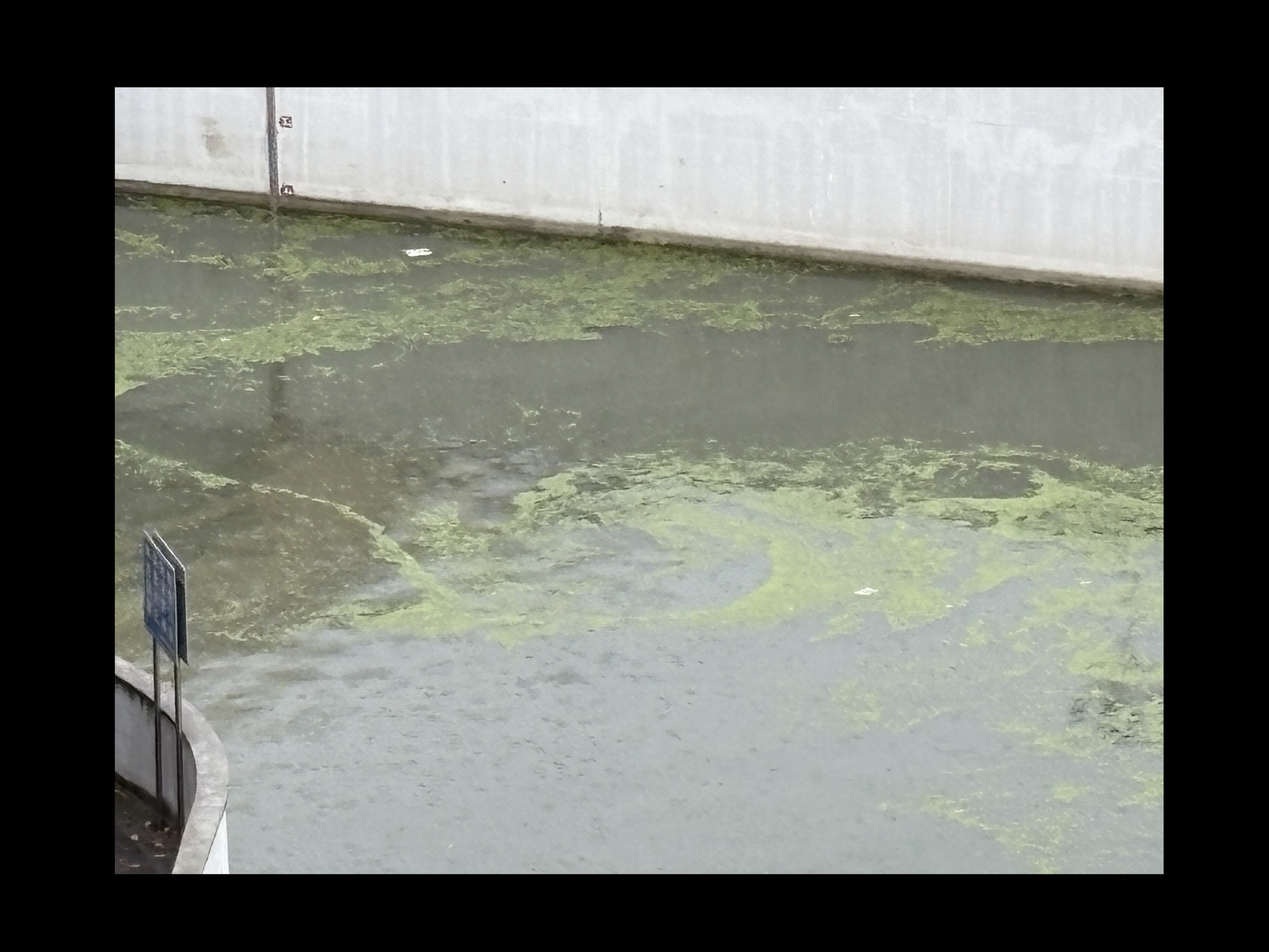Other: (543, 462, 829, 538), (867, 279, 1163, 343), (294, 301, 623, 348), (936, 499, 1157, 554), (1077, 660, 1163, 747), (116, 333, 287, 372), (774, 540, 848, 603)
Plastic wastes: (399, 242, 433, 258), (853, 586, 882, 598)
